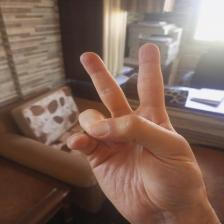two: (64, 42, 202, 206)
